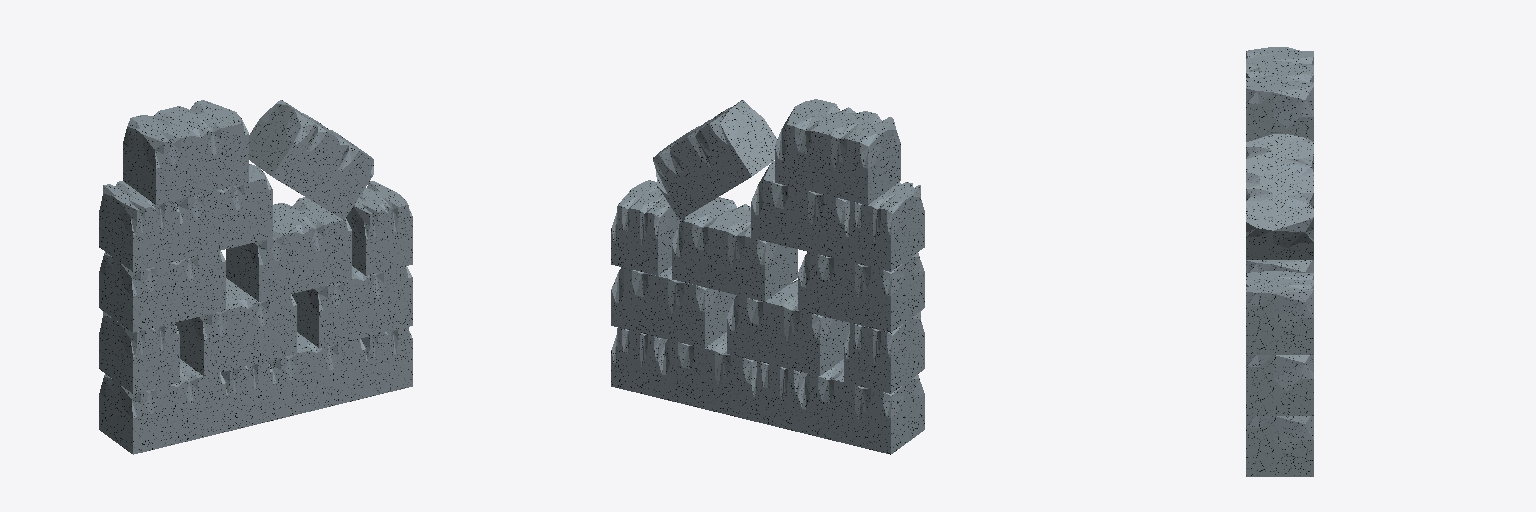
3 views of the same model, side by side, from view 1: azimuth 30°, elevation 25°; view 2: azimuth 150°, elevation 25°; view 3: azimuth 270°, elevation 25° (orthographic).
Parts seen in each view (by area): view 1: Box015, Box010, Box016, Box001, Box014, Box006, Box007, Box004, Box012, Box011, Box005, Box009 (+2 smaller); view 2: Box015, Box010, Box016, Box001, Box014, Box006, Box007, Box004, Box012, Box011, Box009, Box005 (+2 smaller); view 3: Box016, Box015, Box009, Box003, Box007, Box010.
Part boxes in pixels (bbox=[...]): Box015: bbox=[123, 100, 248, 204]; Box010: bbox=[226, 197, 351, 301]; Box016: bbox=[249, 100, 373, 219]; Box001: bbox=[99, 359, 225, 454]; Box014: bbox=[99, 251, 225, 332]; Box006: bbox=[175, 278, 296, 375]; Box007: bbox=[292, 266, 412, 348]; Box004: bbox=[269, 332, 365, 420]; Box012: bbox=[176, 164, 272, 259]; Box011: bbox=[99, 181, 179, 271]; Box005: bbox=[99, 311, 179, 393]; Box009: bbox=[346, 181, 412, 275]; Box015: bbox=[775, 99, 900, 204]; Box010: bbox=[672, 197, 797, 301]; Box016: bbox=[653, 100, 776, 219]; Box001: bbox=[798, 359, 924, 454]; Box014: bbox=[798, 252, 924, 332]; Box006: bbox=[727, 280, 849, 375]; Box007: bbox=[611, 266, 736, 347]; Box004: bbox=[658, 332, 756, 420]; Box012: bbox=[751, 161, 849, 259]; Box011: bbox=[844, 182, 924, 271]; Box009: bbox=[611, 180, 681, 275]; Box005: bbox=[844, 311, 924, 393]; Box016: bbox=[1246, 134, 1313, 259]; Box015: bbox=[1246, 47, 1313, 141]; Box009: bbox=[1246, 271, 1313, 354]; Box003: bbox=[1246, 416, 1313, 476]; Box007: bbox=[1246, 355, 1313, 415]; Box010: bbox=[1246, 260, 1313, 272].
Size of the model in its own units: 2399 by 2498 by 500.
Materials: 1 (1 with a texture image).